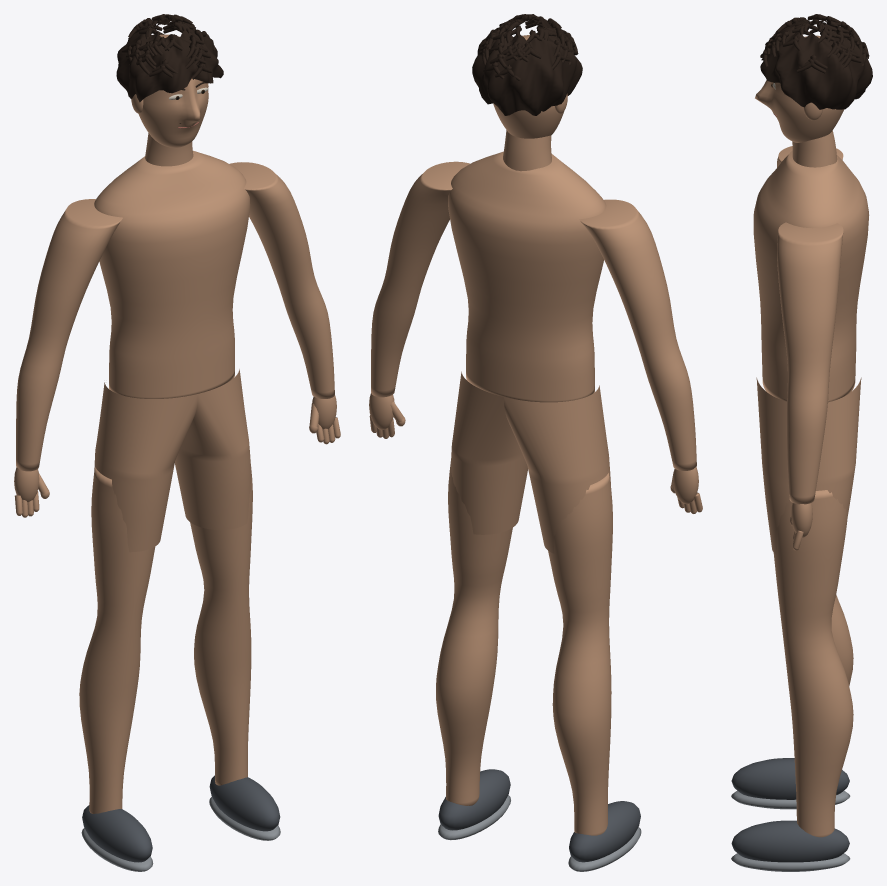
File: toufic_body_lod0.glb
3 views of the same model, side by side, from view 1: azimuth 30°, elevation 25°; view 2: azimuth 150°, elevation 25°; view 3: azimuth 270°, elevation 25° (orthographic). The views are drawn at different scales.
Visible parts, largest first — view 1: BODY_SKIN, HAIR, SHOES, HEAD, SOLES; view 2: BODY_SKIN, HAIR, SHOES, HEAD, SOLES; view 3: BODY_SKIN, HAIR, SHOES, HEAD, SOLES.
Part boxes in pixels (x1,y1,x2,y2): BODY_SKIN: (14, 133, 340, 813); HAIR: (116, 14, 223, 102); SHOES: (82, 775, 280, 862); HEAD: (131, 34, 208, 147); SOLES: (81, 797, 280, 871); BODY_SKIN: (369, 130, 702, 835); HAIR: (472, 14, 582, 115); SHOES: (438, 769, 640, 862); HEAD: (493, 35, 567, 138); SOLES: (438, 795, 641, 871); BODY_SKIN: (753, 130, 869, 837); HAIR: (760, 14, 872, 109); SHOES: (731, 758, 849, 862); HEAD: (755, 35, 844, 142); SOLES: (731, 790, 850, 871).
Size of the model in its own units: 0.762 by 1.83 by 0.2877.
